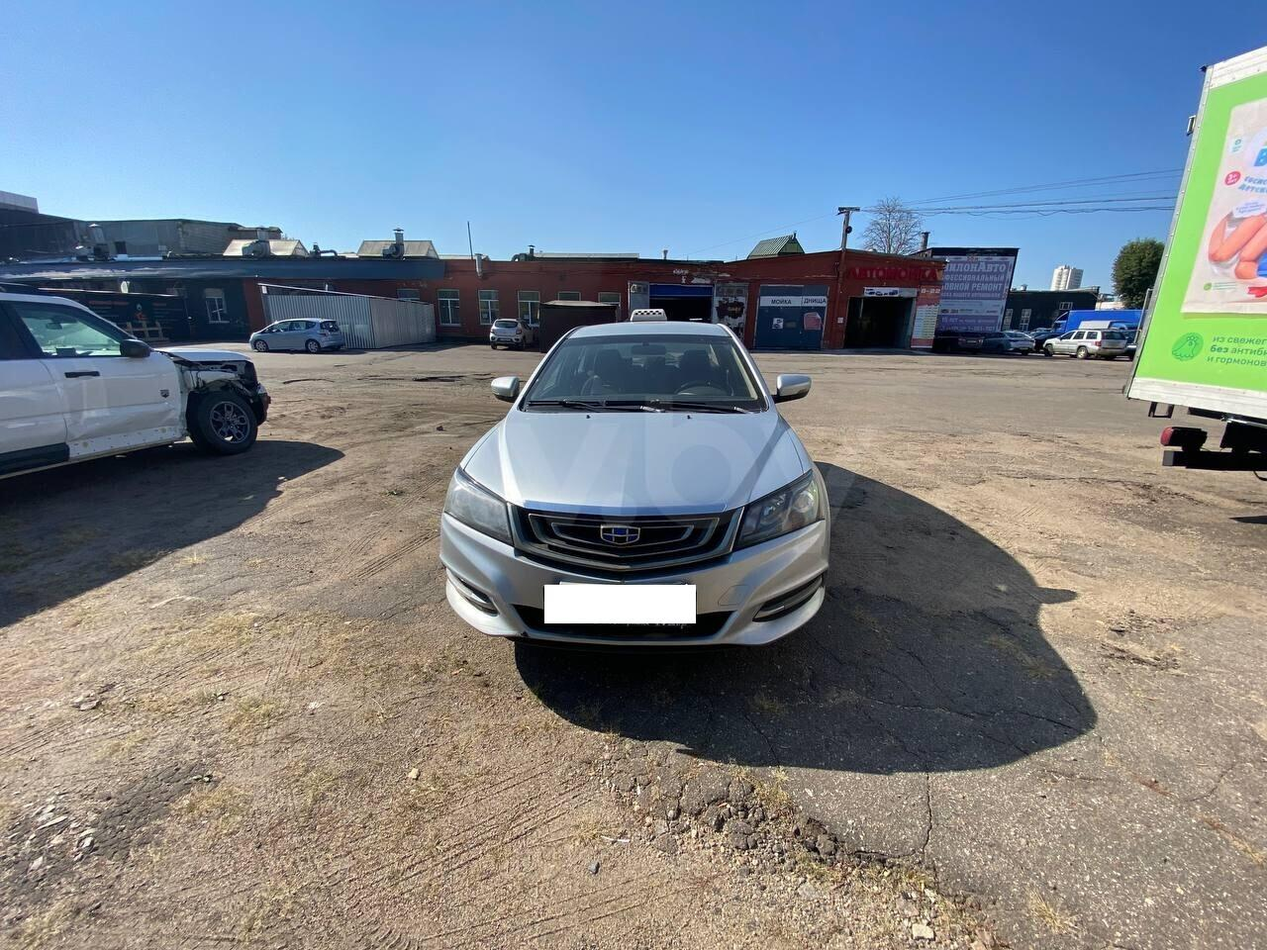Emgrand_2019-2021: (440, 317, 830, 644)
